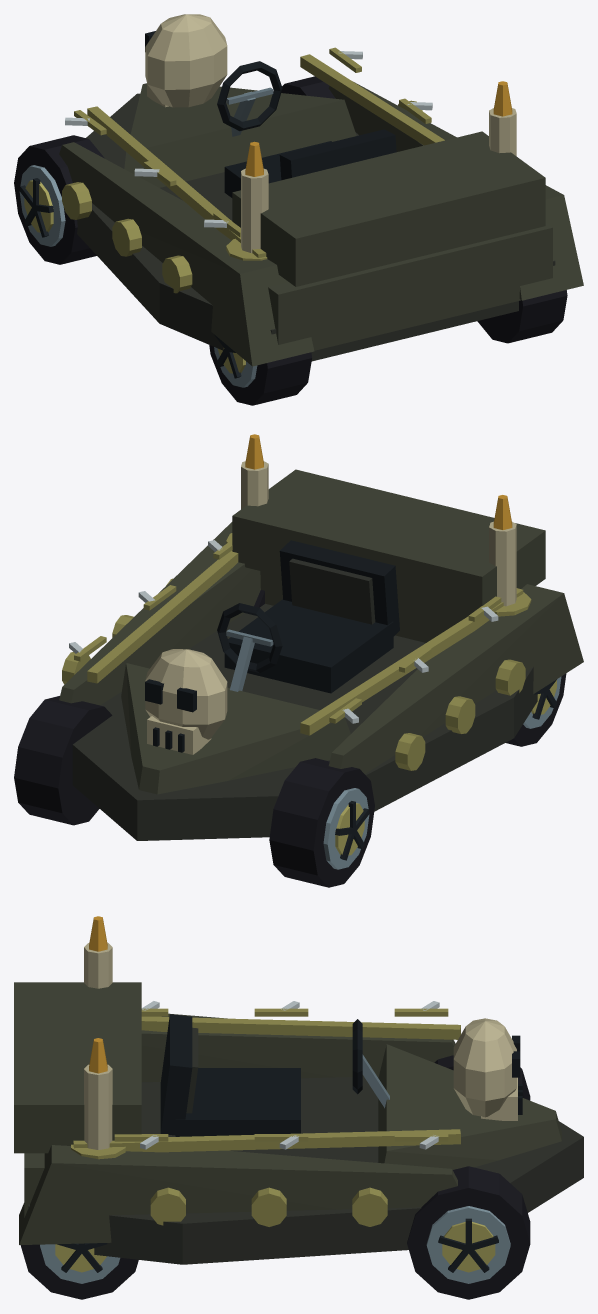
File: kart.glb
3 views of the same model, one above another, from view 1: azimuth 30°, elevation 25°; view 2: azimuth 150°, elevation 25°; view 3: azimuth 270°, elevation 25° (orthographic).
Parts seen in each view (by area): view 1: identity-ship-ship-pointed-bow-and-raised-stern, identity-ship-motif-skull, identity-ship-driver-cockpit, wheel-front-left, identity-ship-motif-candles, wheel-rear-left, wheel-rear-right, identity-ship-motif-runes, wheel-front-right; view 2: identity-ship-ship-pointed-bow-and-raised-stern, identity-ship-driver-cockpit, wheel-front-left, wheel-front-right, identity-ship-motif-skull, identity-ship-motif-candles, identity-ship-motif-runes, wheel-rear-left; view 3: identity-ship-ship-pointed-bow-and-raised-stern, identity-ship-driver-cockpit, wheel-front-right, identity-ship-motif-skull, identity-ship-motif-candles, wheel-rear-right, identity-ship-motif-runes.
Boxes of the visible parts, x1,y1,x2,y2 form: identity-ship-ship-pointed-bow-and-raised-stern: (59,54,583,366); identity-ship-motif-skull: (145,14,227,107); identity-ship-driver-cockpit: (217,61,396,197); wheel-front-left: (14,135,104,264); identity-ship-motif-candles: (226,81,516,260); wheel-rear-left: (209,334,311,405); wheel-rear-right: (477,290,567,343); identity-ship-motif-runes: (65,47,432,237); wheel-front-right: (281,76,335,98); identity-ship-ship-pointed-bow-and-raised-stern: (59,469,583,840); identity-ship-driver-cockpit: (217,540,399,693); wheel-front-left: (269,758,374,887); wheel-front-right: (14,696,112,825); identity-ship-motif-skull: (145,649,227,754); identity-ship-motif-candles: (226,434,531,616); identity-ship-motif-runes: (69,540,501,723); wheel-rear-left: (505,673,566,746); identity-ship-ship-pointed-bow-and-raised-stern: (14,982,583,1264); identity-ship-driver-cockpit: (160,1014,389,1136); wheel-front-right: (407,1166,530,1299); identity-ship-motif-skull: (453,1018,522,1120); identity-ship-motif-candles: (71,916,125,1159); wheel-rear-right: (20,1243,138,1299); identity-ship-motif-runes: (114,1001,448,1149).
Size of the model in its own units: 2 by 1.33 by 2.77.
